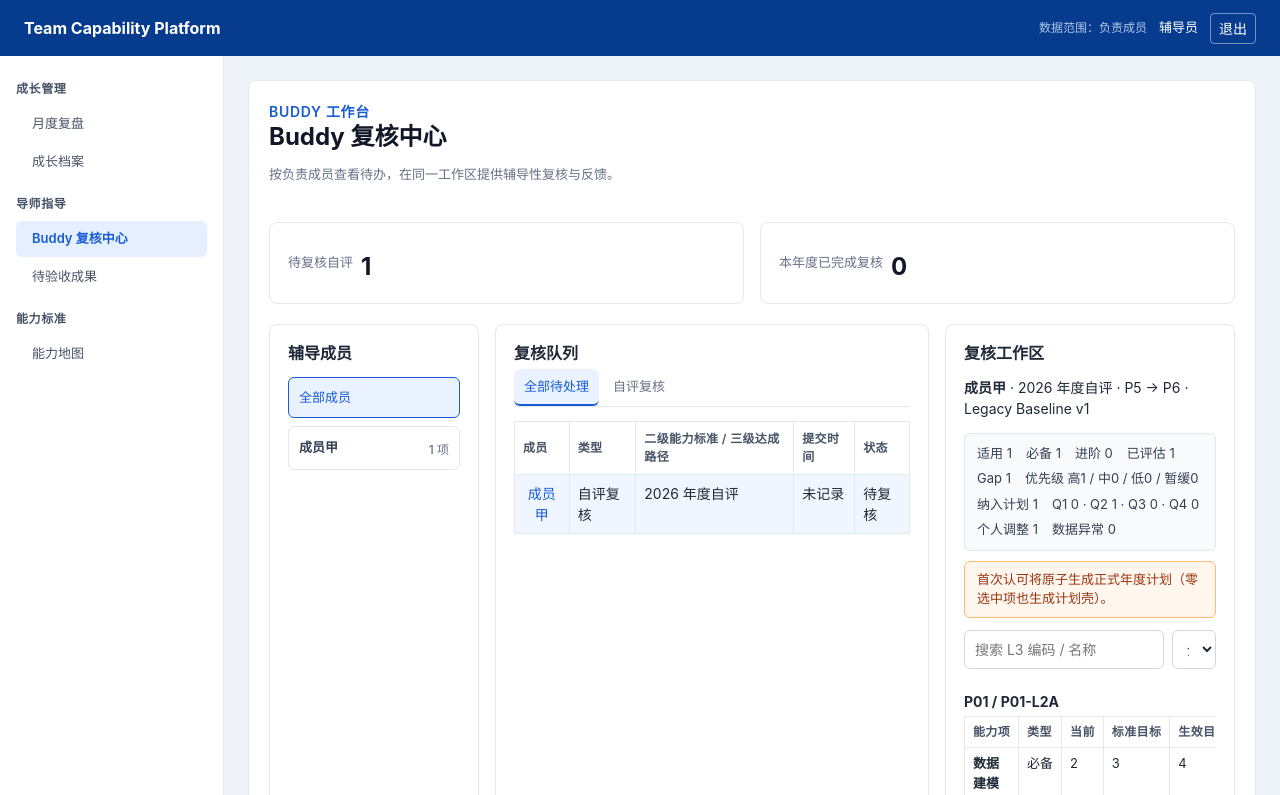
it: BuddyReviewCenter › filters the detail table
Expected: the text "数据建模" is shown, [973, 755, 999, 790]
Select "暂缓" in the dropdown named "筛选" at x=1194, y=649, box [1172, 630, 1216, 668]
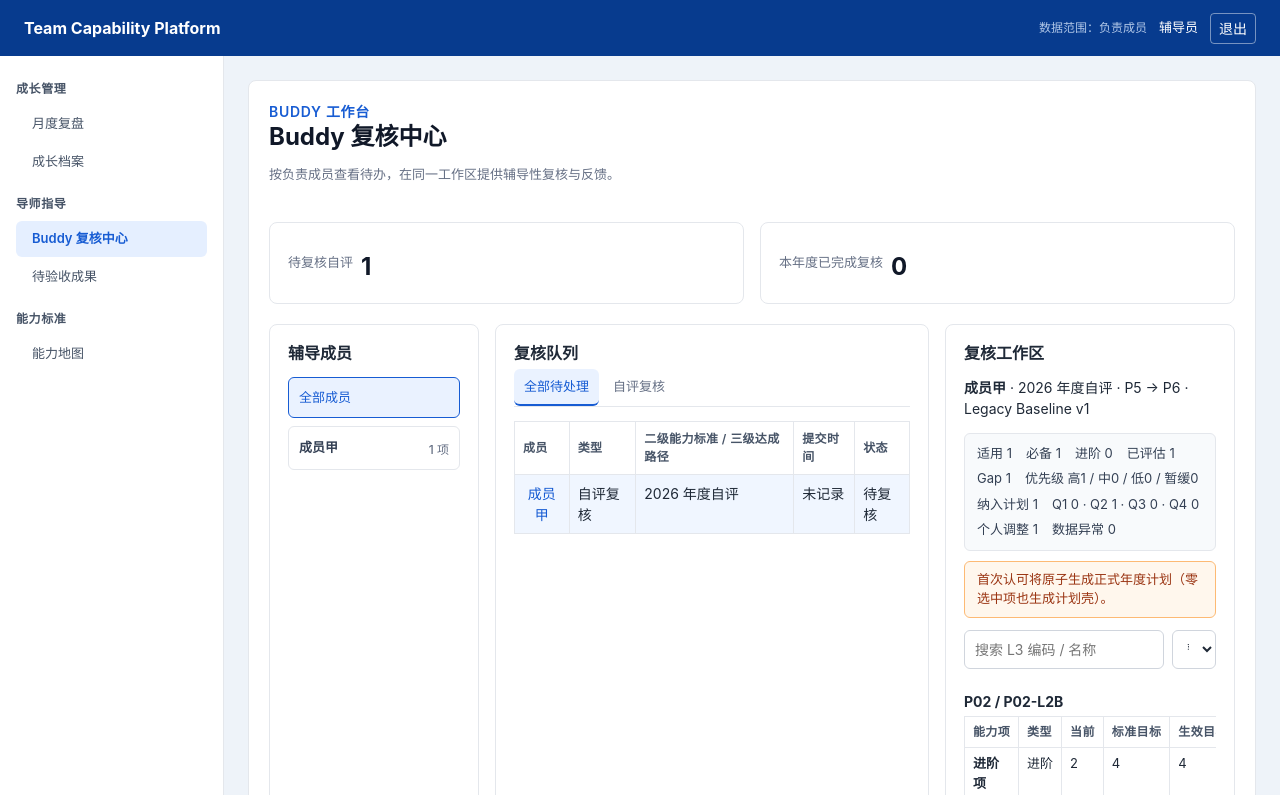
Expected: the text "进阶项" is shown, [973, 755, 999, 790]
Now the text "数据建模" is gone
Select "当前职级必备且有Gap" in the dropdown named "筛选" at x=1194, y=649, box [1172, 630, 1216, 668]
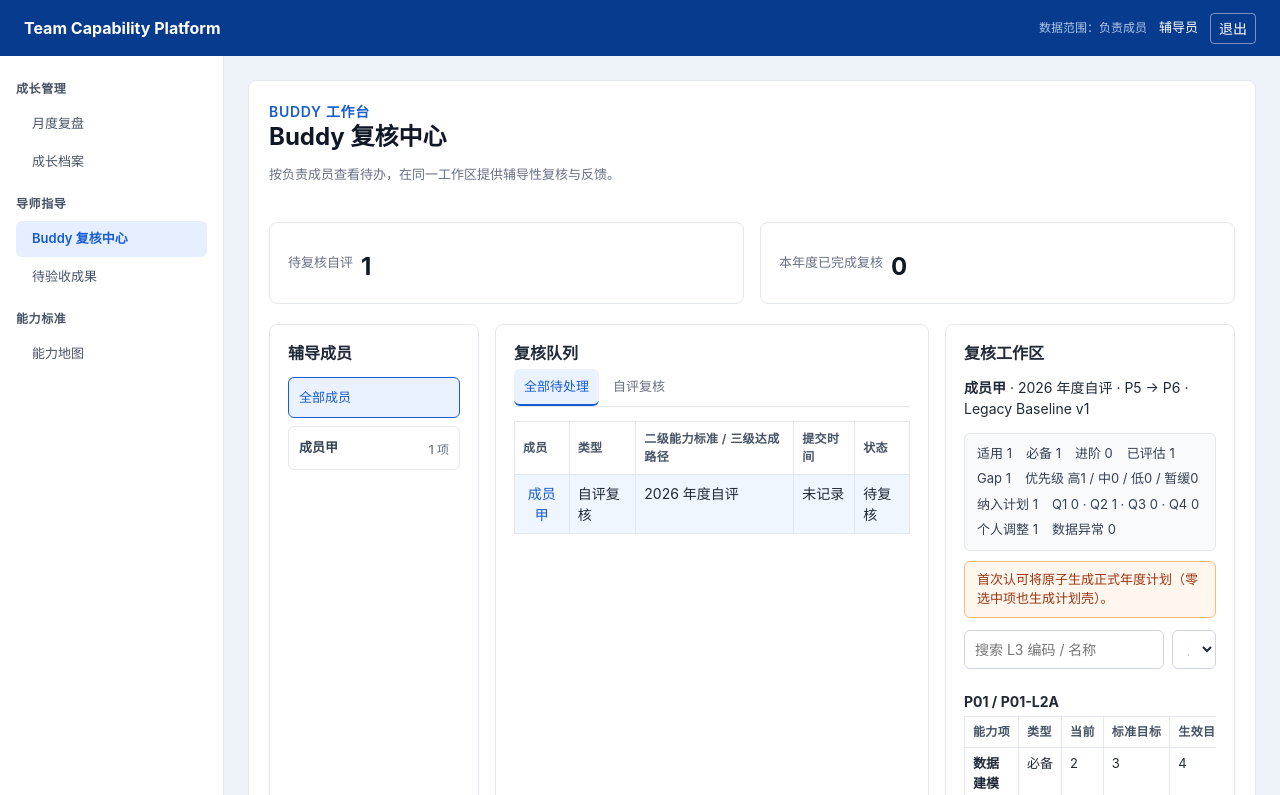
Now the text "数据建模" is shown, box [973, 755, 999, 790]
Now the text "进阶项" is gone
